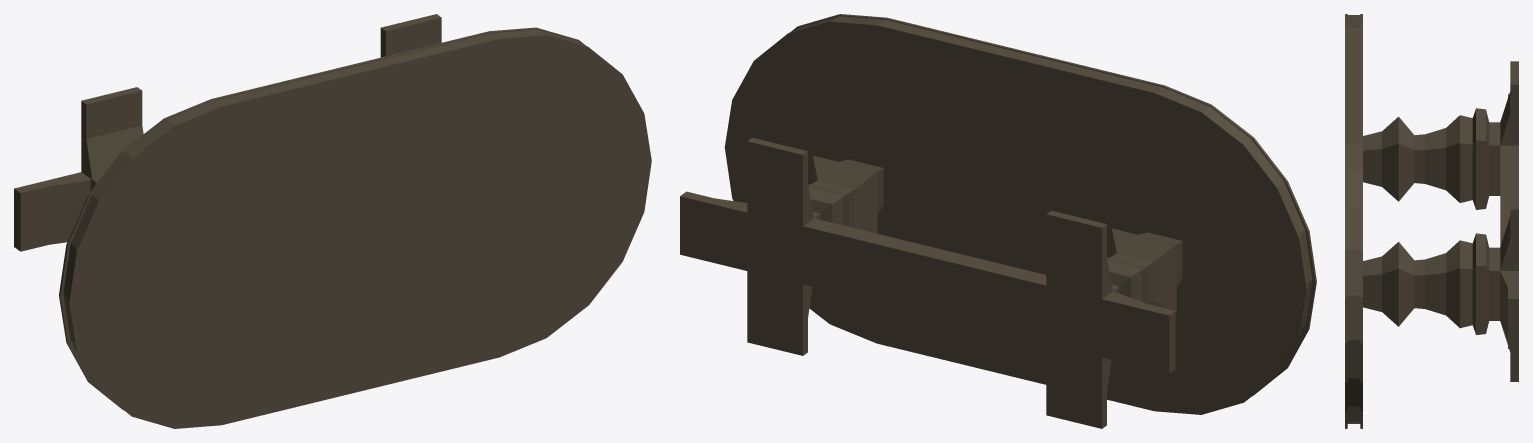
File: dining-table-round.obj
3 renders of one model, left to right at view 1: azimuth 30°, elevation 25°; view 2: azimuth 150°, elevation 25°; view 3: azimuth 270°, elevation 25°, orthographic. The views are drawn at different scales.
Visible parts, largest first — view 1: dining-table-round; view 2: dining-table-round; view 3: dining-table-round.
Part boxes in pixels (x1=…): dining-table-round: x1=14, y1=14, x2=651, y2=428; dining-table-round: x1=680, y1=14, x2=1316, y2=428; dining-table-round: x1=1345, y1=14, x2=1518, y2=428.
Size of the model in its own units: 99.36 by 51.94 by 30.
